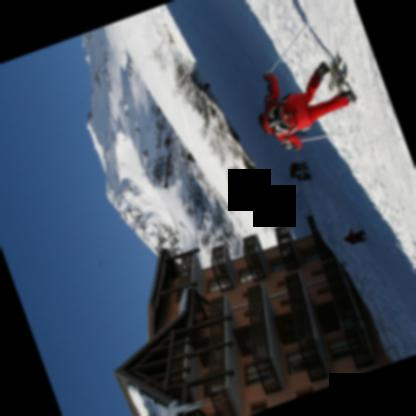backpack: (265, 100, 299, 134)
